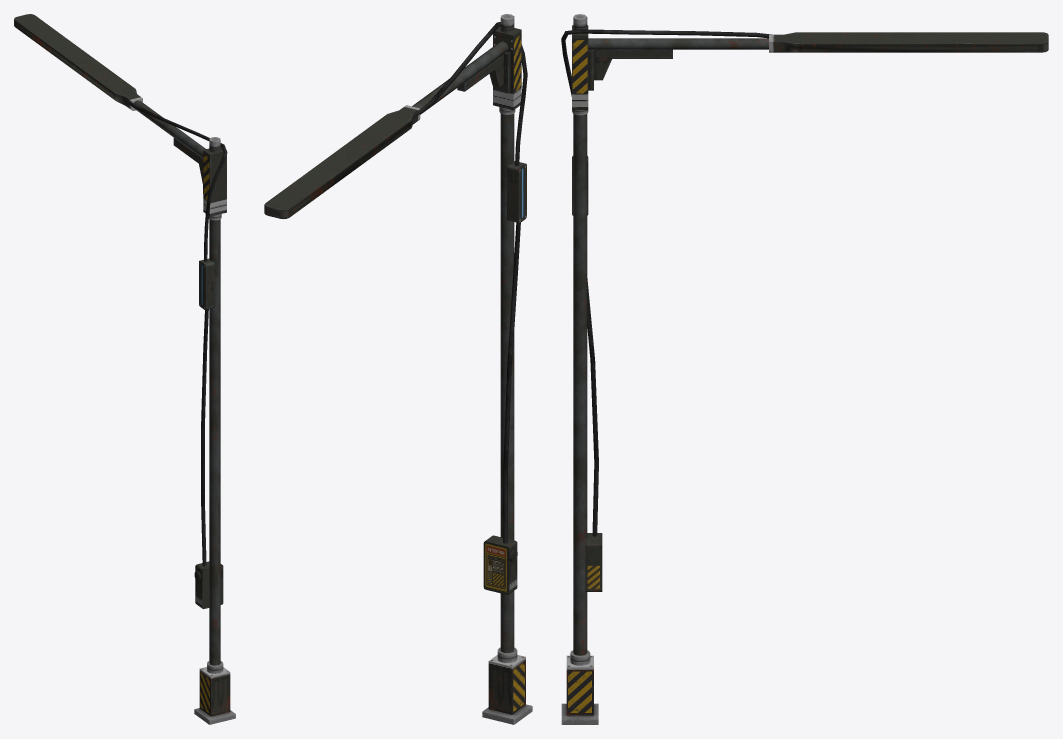
Rendered from CP_Street_Lamp_02.fbx.
3 views of the same model, side by side, from view 1: azimuth 30°, elevation 25°; view 2: azimuth 150°, elevation 25°; view 3: azimuth 270°, elevation 25° (orthographic). The views are drawn at different scales.
Visible parts, largest first — view 1: CP_Street_Lamp_02_LOD0; view 2: CP_Street_Lamp_02_LOD0; view 3: CP_Street_Lamp_02_LOD0.
Part boxes in pixels (x1=…): CP_Street_Lamp_02_LOD0: x1=14, y1=14, x2=235, y2=724; CP_Street_Lamp_02_LOD0: x1=264, y1=14, x2=532, y2=724; CP_Street_Lamp_02_LOD0: x1=561, y1=14, x2=1048, y2=724.
Size of what is drawn, in the model's own units: 24.93 by 522 by 329.
